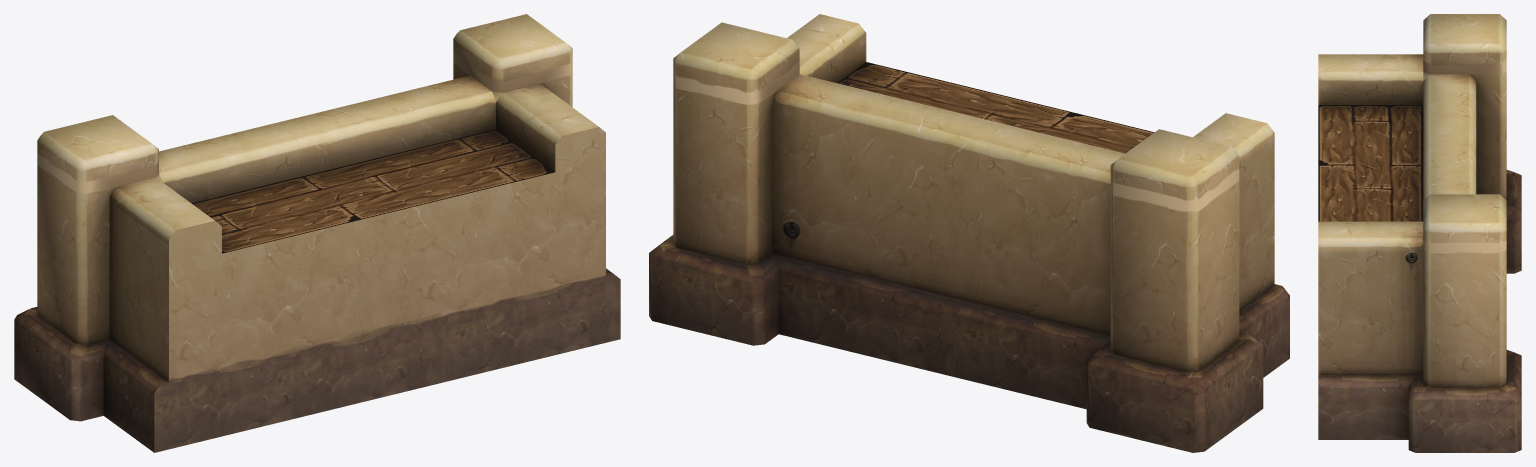
The model's file is DE_House_Mod_Part_04.fbx.
3 views of the same model, side by side, from view 1: azimuth 30°, elevation 25°; view 2: azimuth 150°, elevation 25°; view 3: azimuth 270°, elevation 25° (orthographic). The views are drawn at different scales.
Parts seen in each view (by area): view 1: DE_House_Mod_Part_04; view 2: DE_House_Mod_Part_04; view 3: DE_House_Mod_Part_04.
Boxes of the visible parts, x1,y1,x2,y2 form: DE_House_Mod_Part_04: (14,14,620,452); DE_House_Mod_Part_04: (649,14,1289,452); DE_House_Mod_Part_04: (1318,14,1521,452).
Size of the model in its own units: 9.15 by 4.13 by 3.45.
